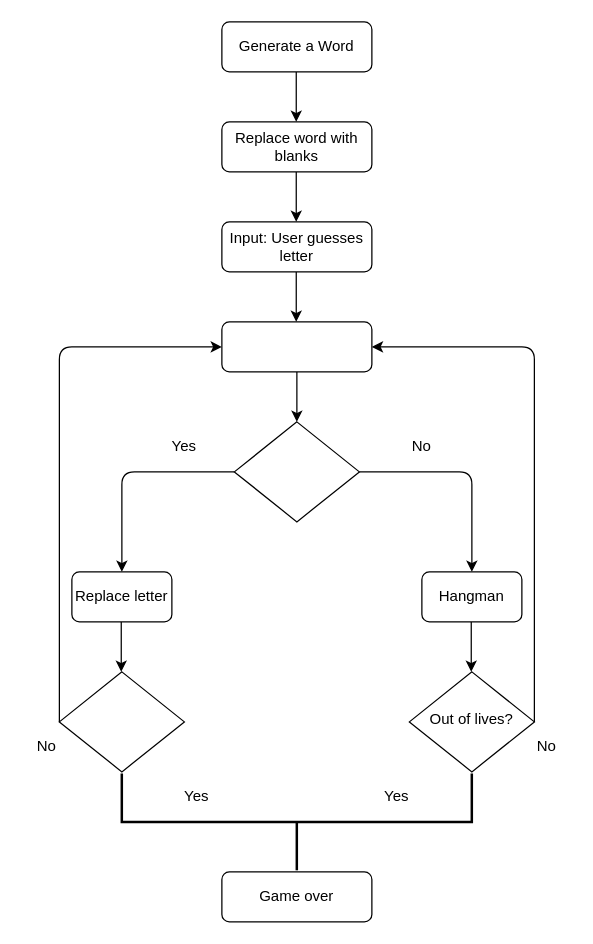
This 593x944 diagram has some shape labels left out. The centre of each missing label's shape, as x and y in pixels:
"Are all blanks filled?" belongs at pixel 121 721.
"Input: Letter" belongs at pixel 296 346.
"Is letter there?" belongs at pixel 296 471.
